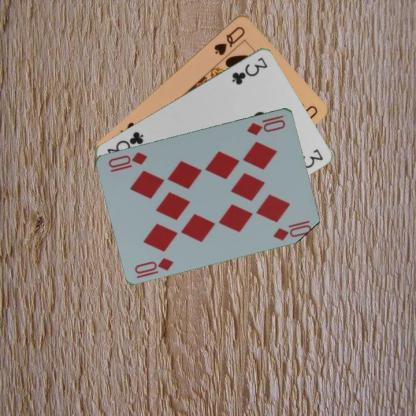10d: (132, 255, 175, 279), (244, 112, 286, 136)
3c: (229, 54, 269, 86)
Qs: (211, 23, 246, 57)
